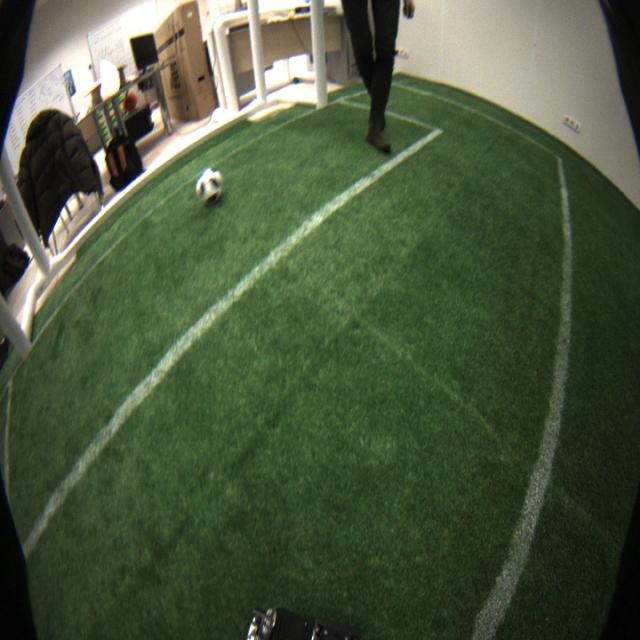ball: (197, 168, 223, 208)
goalpost: (1, 299, 34, 362), (310, 0, 329, 108)
